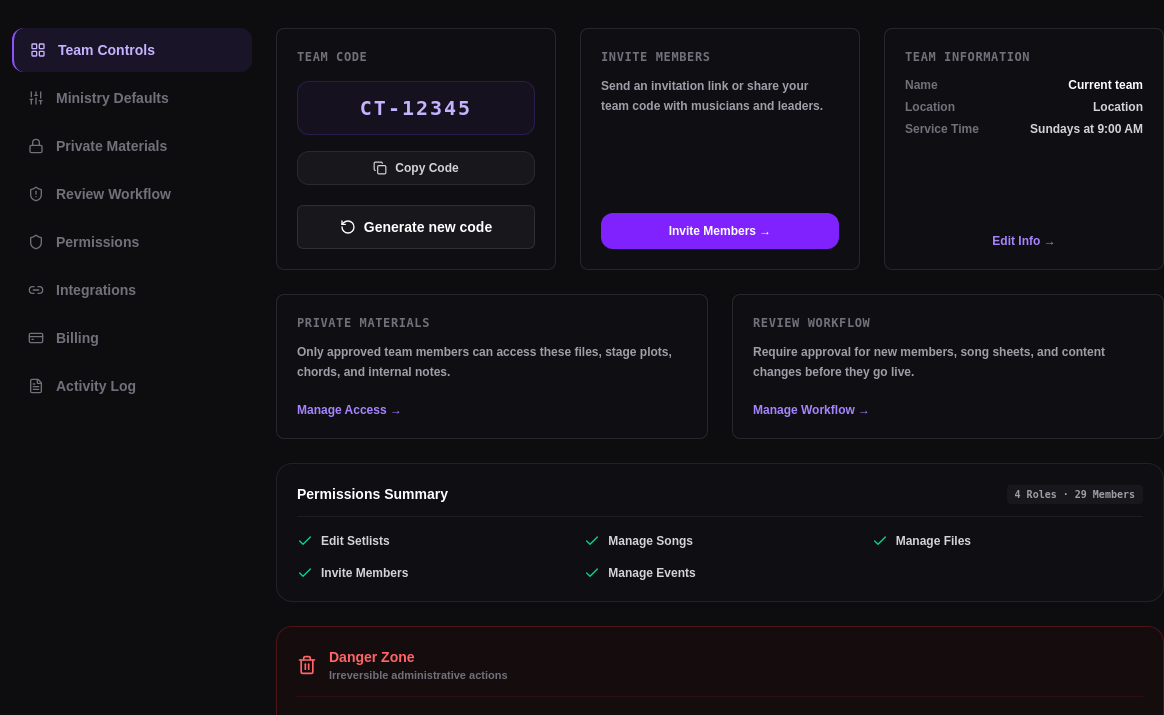
Test case: live settings activity › shows an empty state when no real activity exists
Click the button "Activity Log" at (132,386), box [12,364,252,408]
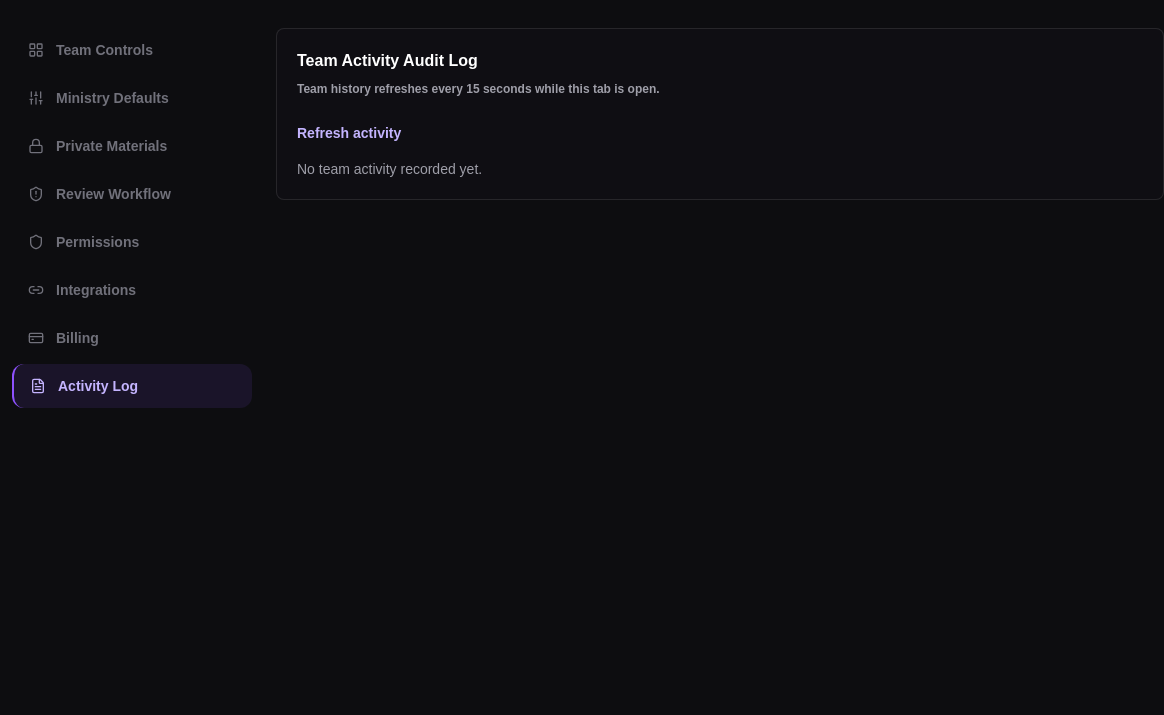
Expected: the text "No team activity recorded yet." is shown, [297,161,482,177]
